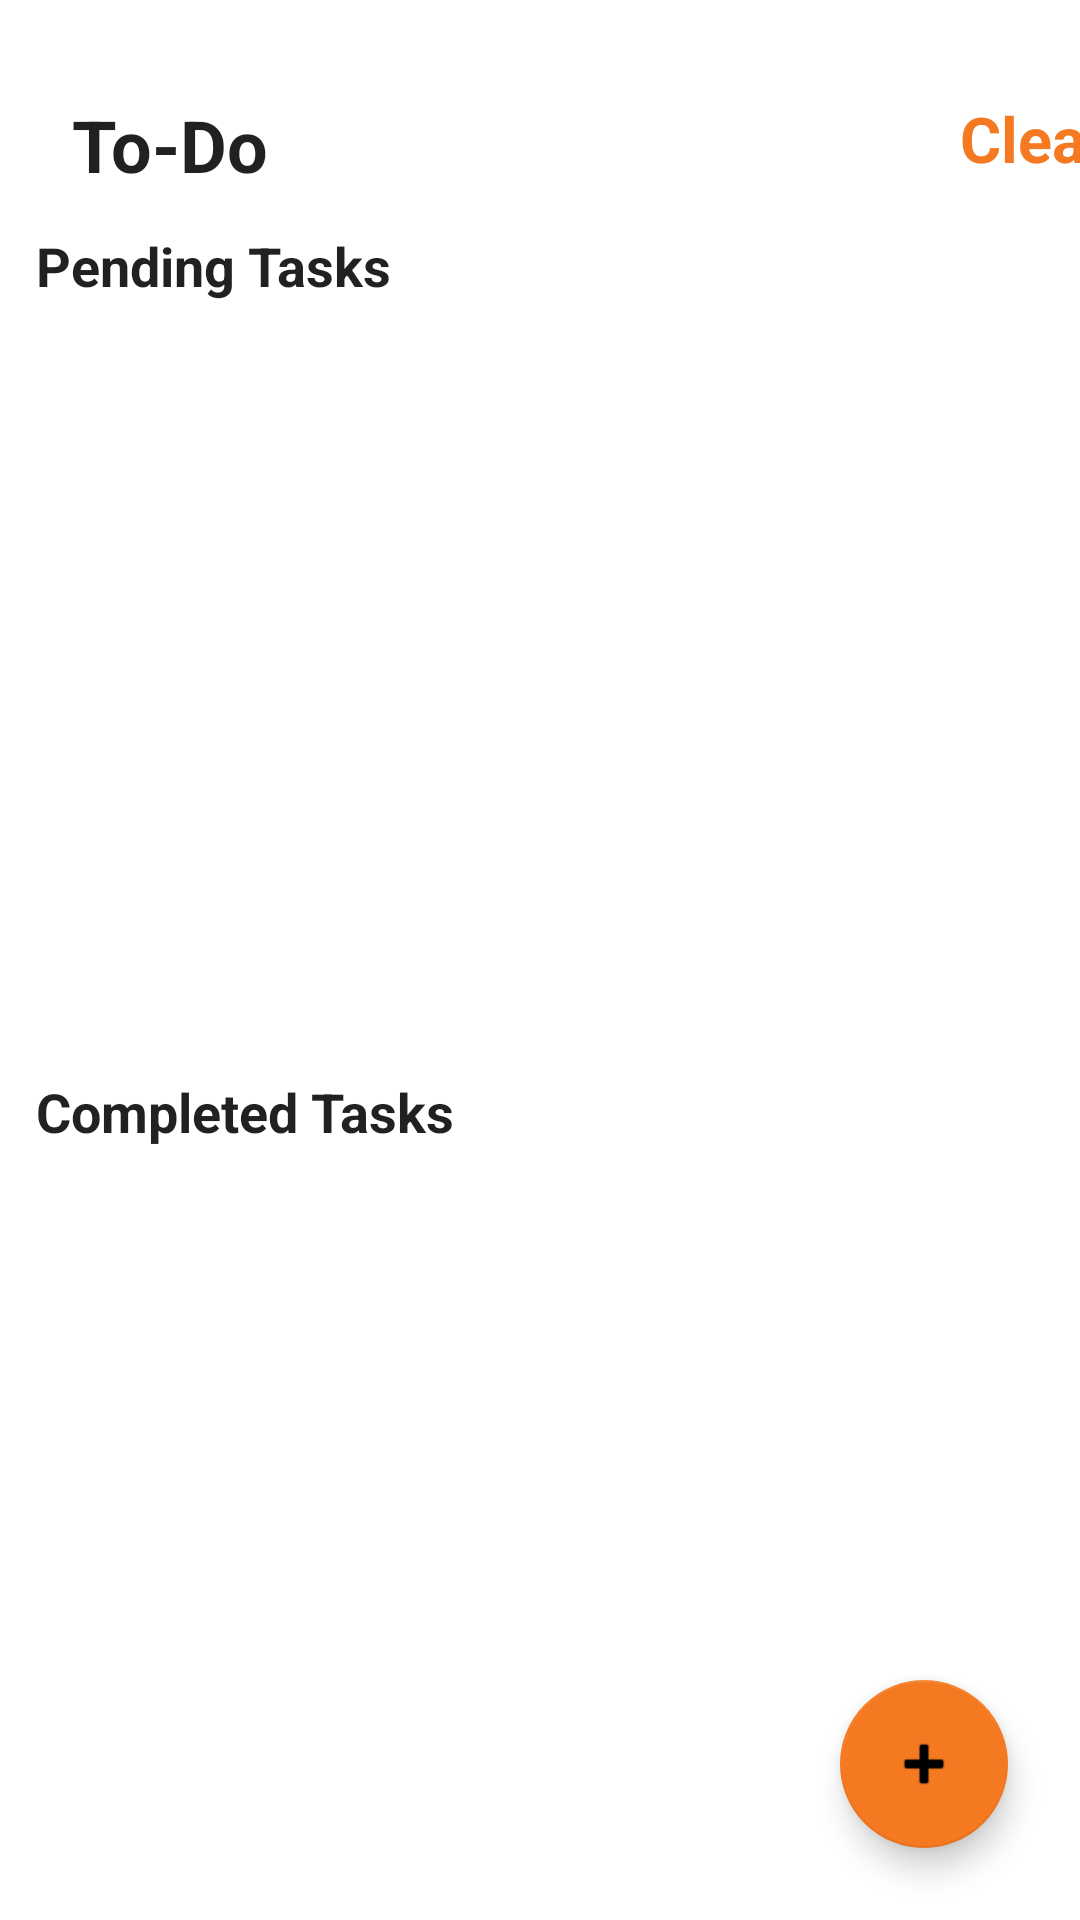

Icon bounding boxes for this 1080px x 1920px phone screenshot, format [x1=x1, y1=y1, x2=x2, y2=y2]:
Add Assignment/HW: [x1=840, y1=1680, x2=1008, y2=1848]
